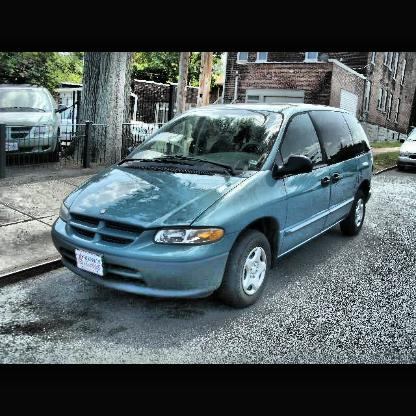Dodge Caravan Minivan 1997: (53, 106, 374, 308)
